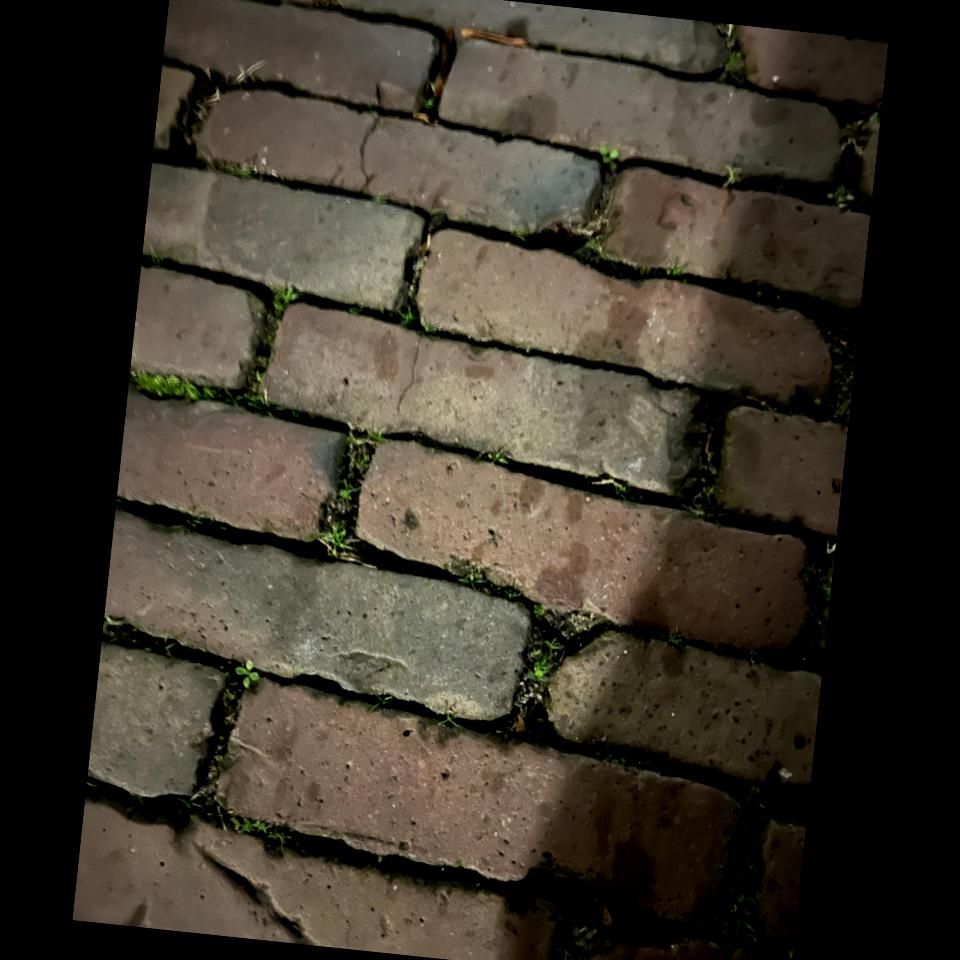weed: (318, 428, 384, 561), (508, 605, 570, 730), (129, 371, 295, 415), (249, 285, 302, 395), (826, 108, 881, 210), (716, 843, 767, 951), (217, 805, 298, 853), (633, 259, 686, 279), (576, 235, 613, 261), (394, 296, 420, 327), (724, 49, 745, 85), (234, 659, 258, 687), (599, 146, 617, 172)
